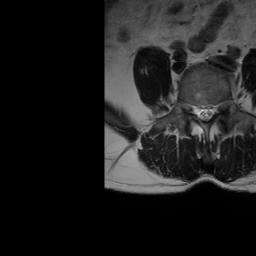CCS_normal: (202, 95, 208, 127)
LFS_normal: (215, 94, 222, 120)
LLS_normal: (208, 97, 215, 124)
RFS_normal: (188, 95, 195, 121)
RLS_normal: (195, 96, 202, 123)
